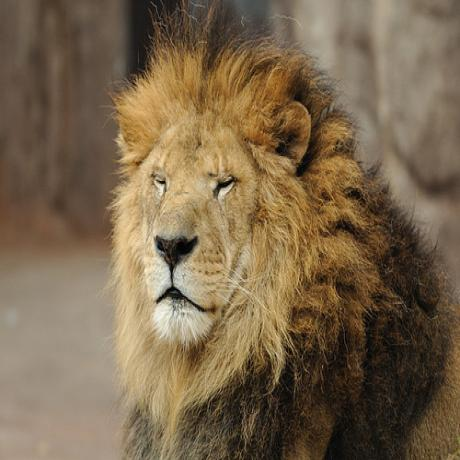Lion: (112, 31, 460, 460)
